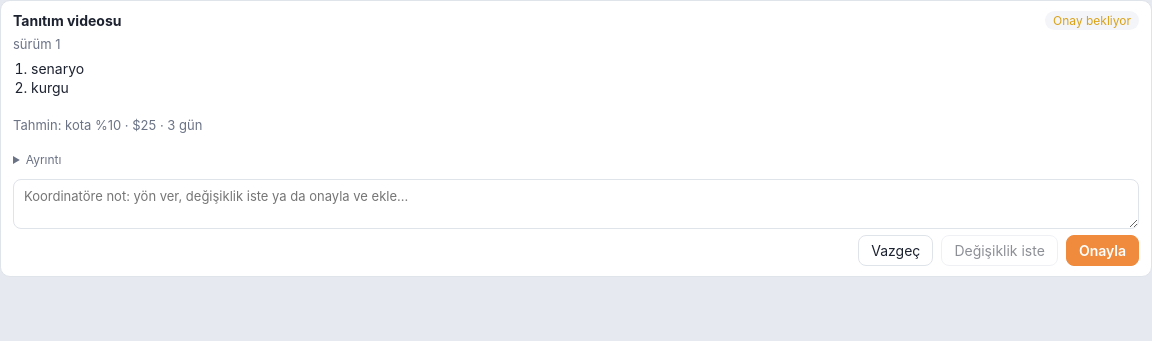
Test case: PlanCard — the owner gives direction, not only yes or no › “Değişiklik iste” sends the note to the one who proposed the plan and keeps the plan a draft
Replace the text in the text box labelled "Koordinatöre not" with "fal.ai kullanılmasın, görseli Codex üretsin" at (576,204), box [13,179,1139,229]
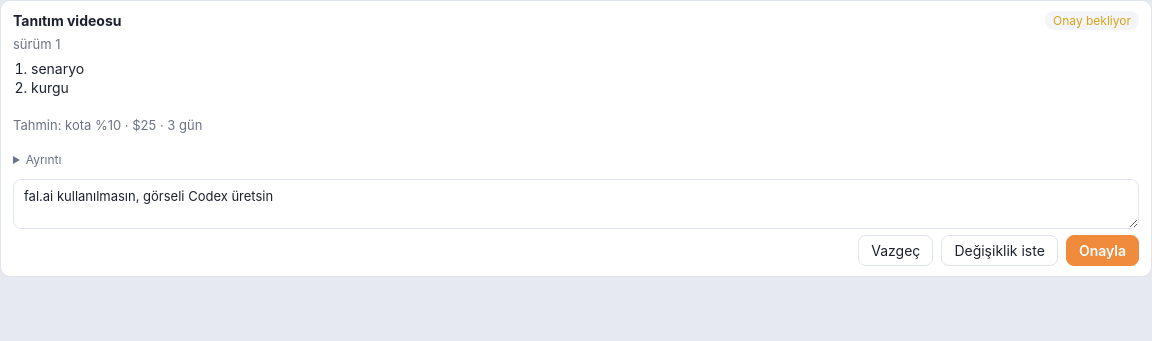
Click the button "Değişiklik iste" at (1000,250), box [941,235,1058,266]
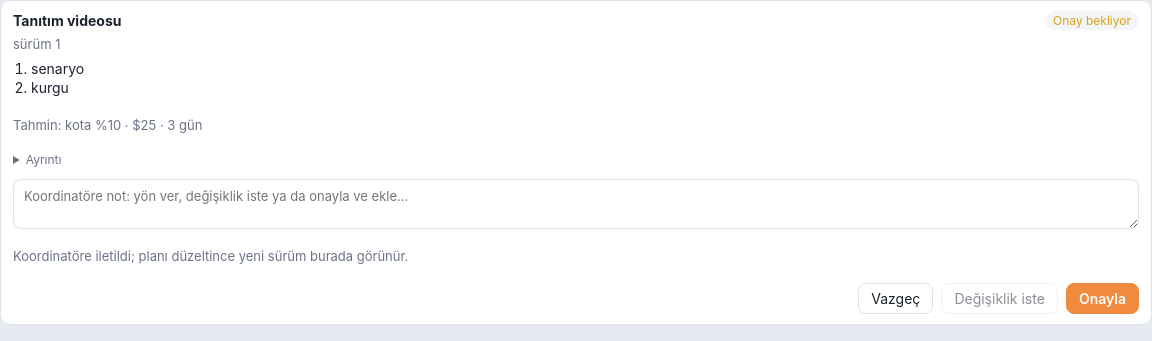
Expected: the text box labelled "Koordinatöre not" is empty, [13,179,1139,229]
Expected: the text "Koordinatöre iletildi" is shown, [13,248,408,264]
